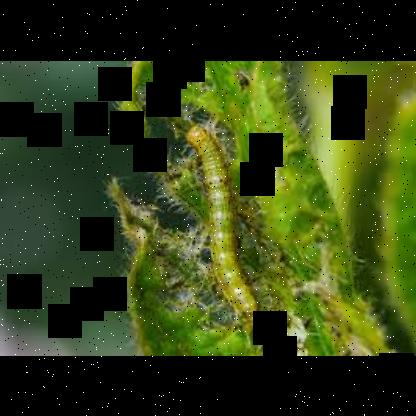oruga: (188, 122, 260, 318)
